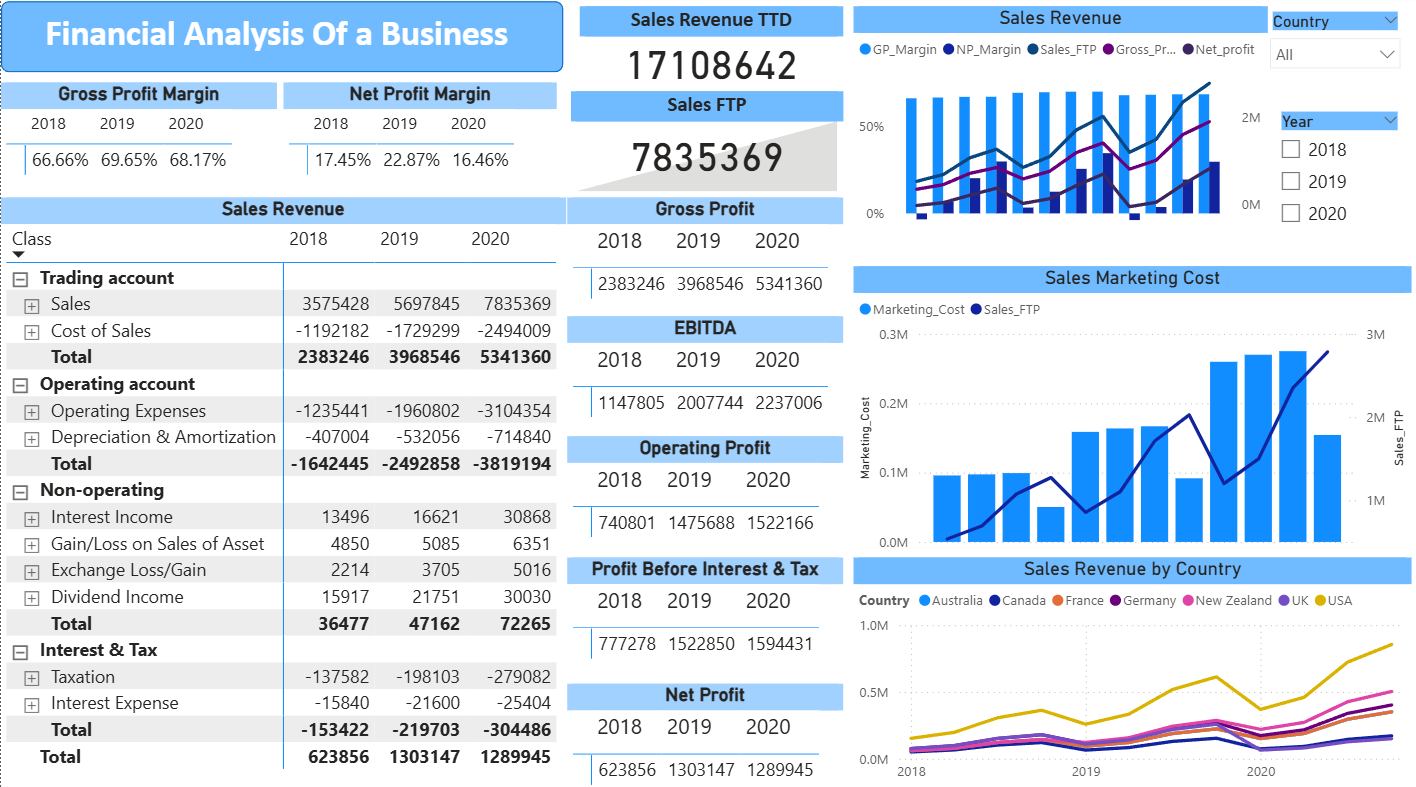

The page's visual inventory and layout, read from the dashboard file:
{"tool":"powerbi","page":{"name":"Duplicate of P&L A/c","canvas":[1280,720],"ordinal":4},"visuals":[{"type":"pivotTable","title":"Sales Revenue","fields":{"Values":["Sum(tbl_GL.Amount)"],"Rows":["tbl_COA.Class","tbl_COA.SubClass","tbl_COA.SubClass2"],"Columns":["tbl_Calendar.Date.Variation.Date Hierarchy.Year","tbl_Calendar.Date.Variation.Date Hierarchy.Quarter","tbl_Calendar.Date.Variation.Date Hierarchy.Month","tbl_Calendar.Date.Variation.Date Hierarchy.Day"]},"box":[0,182.6,509.3,537.2],"z":0},{"type":"slicer","fields":{"Values":["tbl_territory.Country"]},"box":[1133.7,10.5,138.4,68.6],"z":1000},{"type":"pivotTable","title":"Gross Profit","fields":{"Values":["Sum(tbl_GL.Amount)"],"Columns":["tbl_Calendar.Date.Variation.Date Hierarchy.Year","tbl_Calendar.Date.Variation.Date Hierarchy.Quarter","tbl_Calendar.Date.Variation.Date Hierarchy.Month","tbl_Calendar.Date.Variation.Date Hierarchy.Day"]},"box":[510.5,182.6,248.8,107],"z":2000},{"type":"pivotTable","title":"Operating Profit","fields":{"Values":["Sum(tbl_GL.Amount)"],"Columns":["tbl_Calendar.Date.Variation.Date Hierarchy.Year","tbl_Calendar.Date.Variation.Date Hierarchy.Quarter","tbl_Calendar.Date.Variation.Date Hierarchy.Month","tbl_Calendar.Date.Variation.Date Hierarchy.Day"]},"box":[510.5,397.7,248.8,109.3],"z":3000},{"type":"pivotTable","title":"Profit Before Interest & Tax","fields":{"Values":["Sum(tbl_GL.Amount)"],"Columns":["tbl_Calendar.Date.Variation.Date Hierarchy.Year","tbl_Calendar.Date.Variation.Date Hierarchy.Quarter","tbl_Calendar.Date.Variation.Date Hierarchy.Month","tbl_Calendar.Date.Variation.Date Hierarchy.Day"]},"box":[510.5,507,248.8,103.5],"z":4000},{"type":"pivotTable","title":"Net Profit","fields":{"Values":["Sum(tbl_GL.Amount)"],"Columns":["tbl_Calendar.Date.Variation.Date Hierarchy.Year","tbl_Calendar.Date.Variation.Date Hierarchy.Quarter","tbl_Calendar.Date.Variation.Date Hierarchy.Month","tbl_Calendar.Date.Variation.Date Hierarchy.Day"]},"box":[510.5,620.9,248.8,98.8],"z":5000},{"type":"pivotTable","title":"EBITDA","fields":{"Values":["Sum(tbl_GL.Amount)"],"Columns":["tbl_Calendar.Date.Variation.Date Hierarchy.Year","tbl_Calendar.Date.Variation.Date Hierarchy.Quarter","tbl_Calendar.Date.Variation.Date Hierarchy.Month","tbl_Calendar.Date.Variation.Date Hierarchy.Day"]},"box":[510.5,289.5,248.8,98.8],"z":6000},{"type":"card","title":"Sales Revenue TTD","fields":{"Values":["Sum(tbl_GL.Amount)"]},"box":[522.1,10.5,237.2,76.7],"z":7000},{"type":"kpi","title":"Sales FTP","fields":{"Indicator":["Sum(tbl_GL.Amount)"],"TrendLine":["tbl_Calendar.Date.Variation.Date Hierarchy.Year"]},"box":[514,87.2,245.3,95.3],"z":8000},{"type":"lineClusteredColumnComboChart","title":"Sales Revenue","fields":{"Category":["tbl_Calendar.Date.Variation.Date Hierarchy.Year","tbl_Calendar.Date.Variation.Date Hierarchy.Quarter","tbl_Calendar.Date.Variation.Date Hierarchy.Month","tbl_Calendar.Date.Variation.Date Hierarchy.Day"],"Y2":["tbl_GL.Sales_FTP","tbl_GL.Gross_Profit","tbl_GL.Net_profit"],"Y":["tbl_GL.GP_Margin","tbl_GL.NP_Margin"]},"box":[768.6,10.5,373.3,224.4],"z":9000},{"type":"lineStackedColumnComboChart","title":"Sales Marketing Cost","fields":{"Category":["tbl_Calendar.Date.Variation.Date Hierarchy.Year","tbl_Calendar.Date.Variation.Date Hierarchy.Quarter","tbl_Calendar.Date.Variation.Date Hierarchy.Month","tbl_Calendar.Date.Variation.Date Hierarchy.Day"],"Y":["tbl_GL.Marketing_Cost"],"Y2":["tbl_GL.Sales_FTP"]},"box":[768.6,244.2,503.5,262.8],"z":10000},{"type":"pivotTable","title":"Gross Profit Margin","fields":{"Columns":["tbl_Calendar.Date.Variation.Date Hierarchy.Year","tbl_Calendar.Date.Variation.Date Hierarchy.Quarter","tbl_Calendar.Date.Variation.Date Hierarchy.Month","tbl_Calendar.Date.Variation.Date Hierarchy.Day"],"Values":["tbl_GL.GP_Margin"]},"box":[0,79.1,248.8,103.5],"z":11000},{"type":"pivotTable","title":"Net Profit Margin","fields":{"Columns":["tbl_Calendar.Date.Variation.Date Hierarchy.Year","tbl_Calendar.Date.Variation.Date Hierarchy.Quarter","tbl_Calendar.Date.Variation.Date Hierarchy.Month","tbl_Calendar.Date.Variation.Date Hierarchy.Day"],"Values":["tbl_GL.NP_Margin"]},"box":[254.7,79.1,246.5,103.5],"z":12000},{"type":"lineChart","title":"Sales Revenue by Country","fields":{"Y":["Sum(tbl_GL.Amount)"],"Category":["tbl_Calendar.Date.Variation.Date Hierarchy.Year","tbl_Calendar.Date.Variation.Date Hierarchy.Quarter","tbl_Calendar.Date.Variation.Date Hierarchy.Month","tbl_Calendar.Date.Variation.Date Hierarchy.Day"],"Series":["tbl_territory.Country"]},"box":[768.6,507,503.5,211.6],"z":13000},{"type":"shape","box":[0,5.8,507,64],"z":14000},{"type":"textbox","box":[11.6,10.5,474.4,59.3],"z":15000},{"type":"slicer","fields":{"Values":["tbl_Calendar.Date.Variation.Date Hierarchy.Year"]},"box":[1141.9,100,130.2,125.6],"z":15001}]}

Visuals, with their boxes in screenshot pixels (x1, y1, x2, y2), scaled from the page's 1280x720 canvas onto the 1416x787 screenshot:
"Sales Revenue" pivotTable: rect(0, 200, 563, 786)
slicer - tbl_territory.Country: rect(1254, 11, 1407, 86)
"Gross Profit" pivotTable: rect(565, 200, 840, 317)
"Operating Profit" pivotTable: rect(565, 435, 840, 554)
"Profit Before Interest & Tax" pivotTable: rect(565, 554, 840, 667)
"Net Profit" pivotTable: rect(565, 679, 840, 786)
"EBITDA" pivotTable: rect(565, 316, 840, 424)
"Sales Revenue TTD" card: rect(578, 11, 840, 95)
"Sales FTP" kpi: rect(569, 95, 840, 199)
"Sales Revenue" lineClusteredColumnComboChart: rect(850, 11, 1263, 257)
"Sales Marketing Cost" lineStackedColumnComboChart: rect(850, 267, 1407, 554)
"Gross Profit Margin" pivotTable: rect(0, 86, 275, 200)
"Net Profit Margin" pivotTable: rect(282, 86, 554, 200)
"Sales Revenue by Country" lineChart: rect(850, 554, 1407, 785)
shape: rect(0, 6, 561, 76)
textbox: rect(13, 11, 538, 76)
slicer - tbl_Calendar.Date.Variation.Date Hierarchy.Year: rect(1263, 109, 1407, 247)
